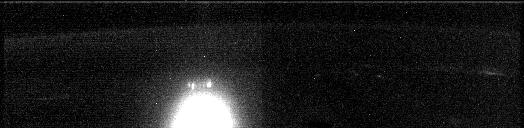positive: (183, 78, 216, 92)
